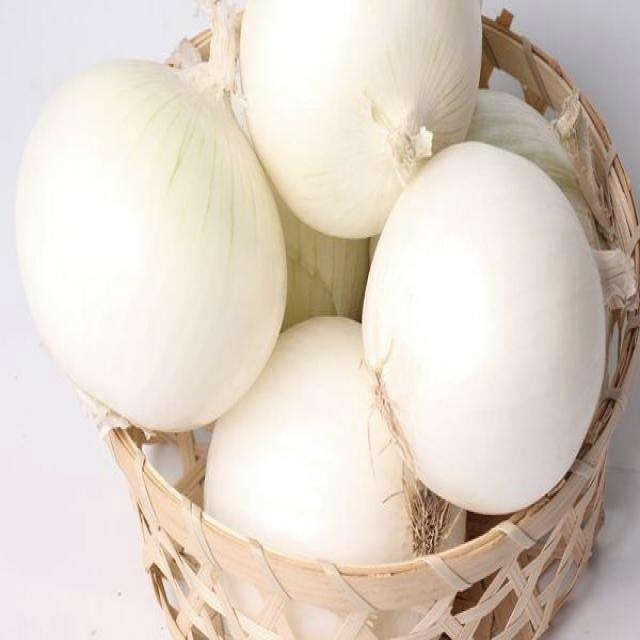onion: (11, 63, 291, 440), (355, 130, 608, 517), (201, 312, 469, 628), (234, 2, 484, 249)
